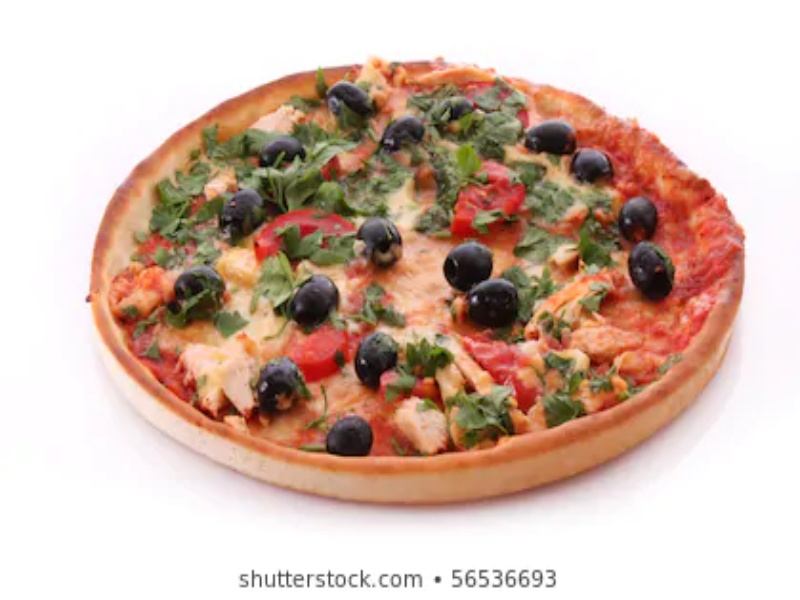olive noir: (252, 348, 312, 413), (626, 240, 688, 299), (283, 267, 339, 332), (217, 178, 266, 245), (611, 187, 670, 241), (438, 241, 502, 287), (351, 330, 407, 382), (321, 76, 381, 123), (464, 283, 522, 331), (516, 111, 576, 157), (359, 216, 409, 270), (323, 409, 379, 455), (567, 144, 623, 188)
